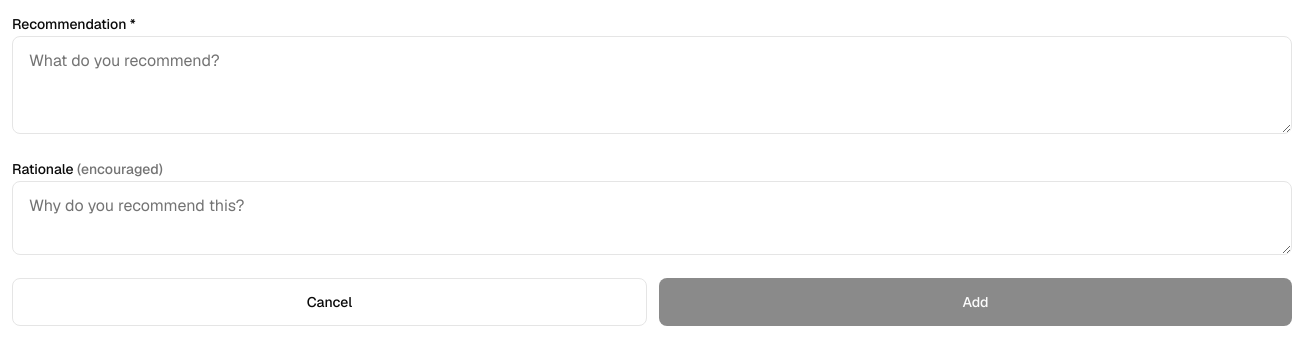
Test: RecommendationForm › enables submit button when recommendation is filled
Type "My recommendation" into the text box with test id "recommendation-text" at (652,85), box [12, 36, 1292, 134]
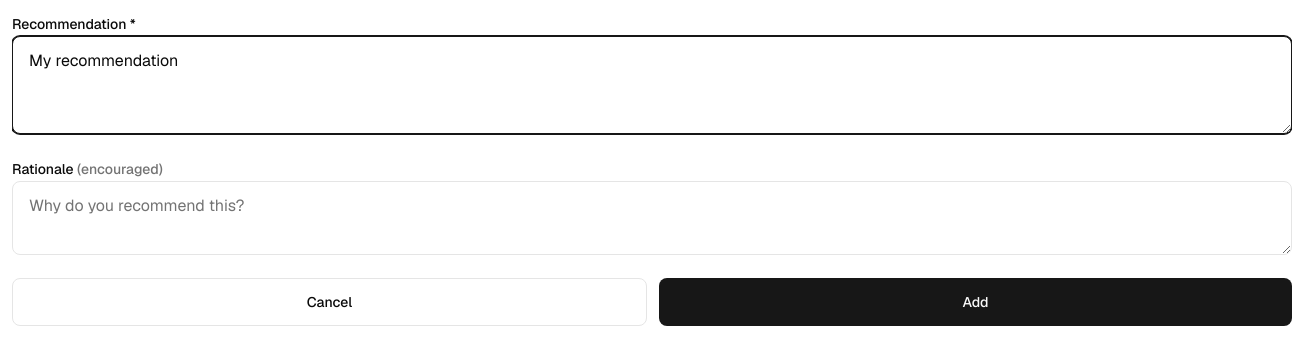
Expected: the button with test id "recommendation-submit" is enabled, [659, 278, 1292, 326]
